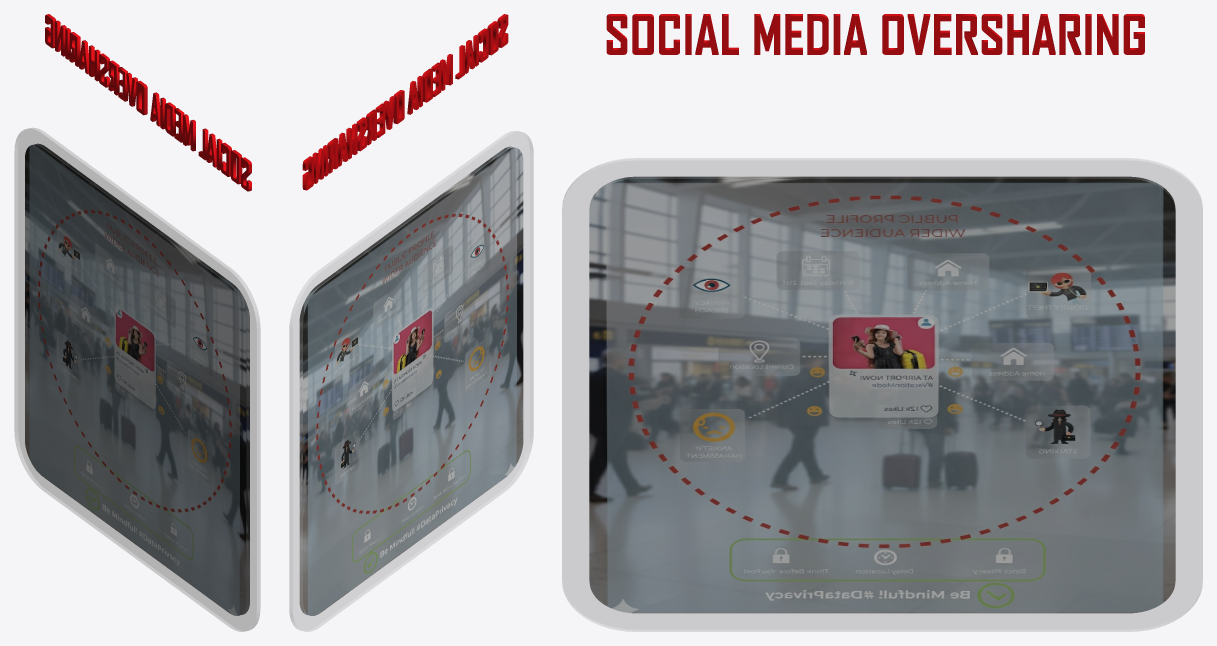
Rendered from social_media.glb.
The picture shows the model from 3 angles, left to right: view 1: azimuth 30°, elevation 25°; view 2: azimuth 150°, elevation 25°; view 3: azimuth 270°, elevation 25°; orthographic projection. The views are drawn at different scales.
Visible parts, largest first — view 1: Plane, Text; view 2: Plane, Text; view 3: Plane, Text.
Part boxes in pixels (bbox=[...]): Plane: bbox=[14, 128, 260, 631]; Text: bbox=[45, 14, 251, 191]; Plane: bbox=[289, 131, 533, 631]; Text: bbox=[302, 14, 508, 190]; Plane: bbox=[562, 158, 1202, 631]; Text: bbox=[606, 14, 1144, 54].
Size of the model in its own units: 0.1846 by 6.95 by 6.5.
Materials: 3 (1 with a texture image).
